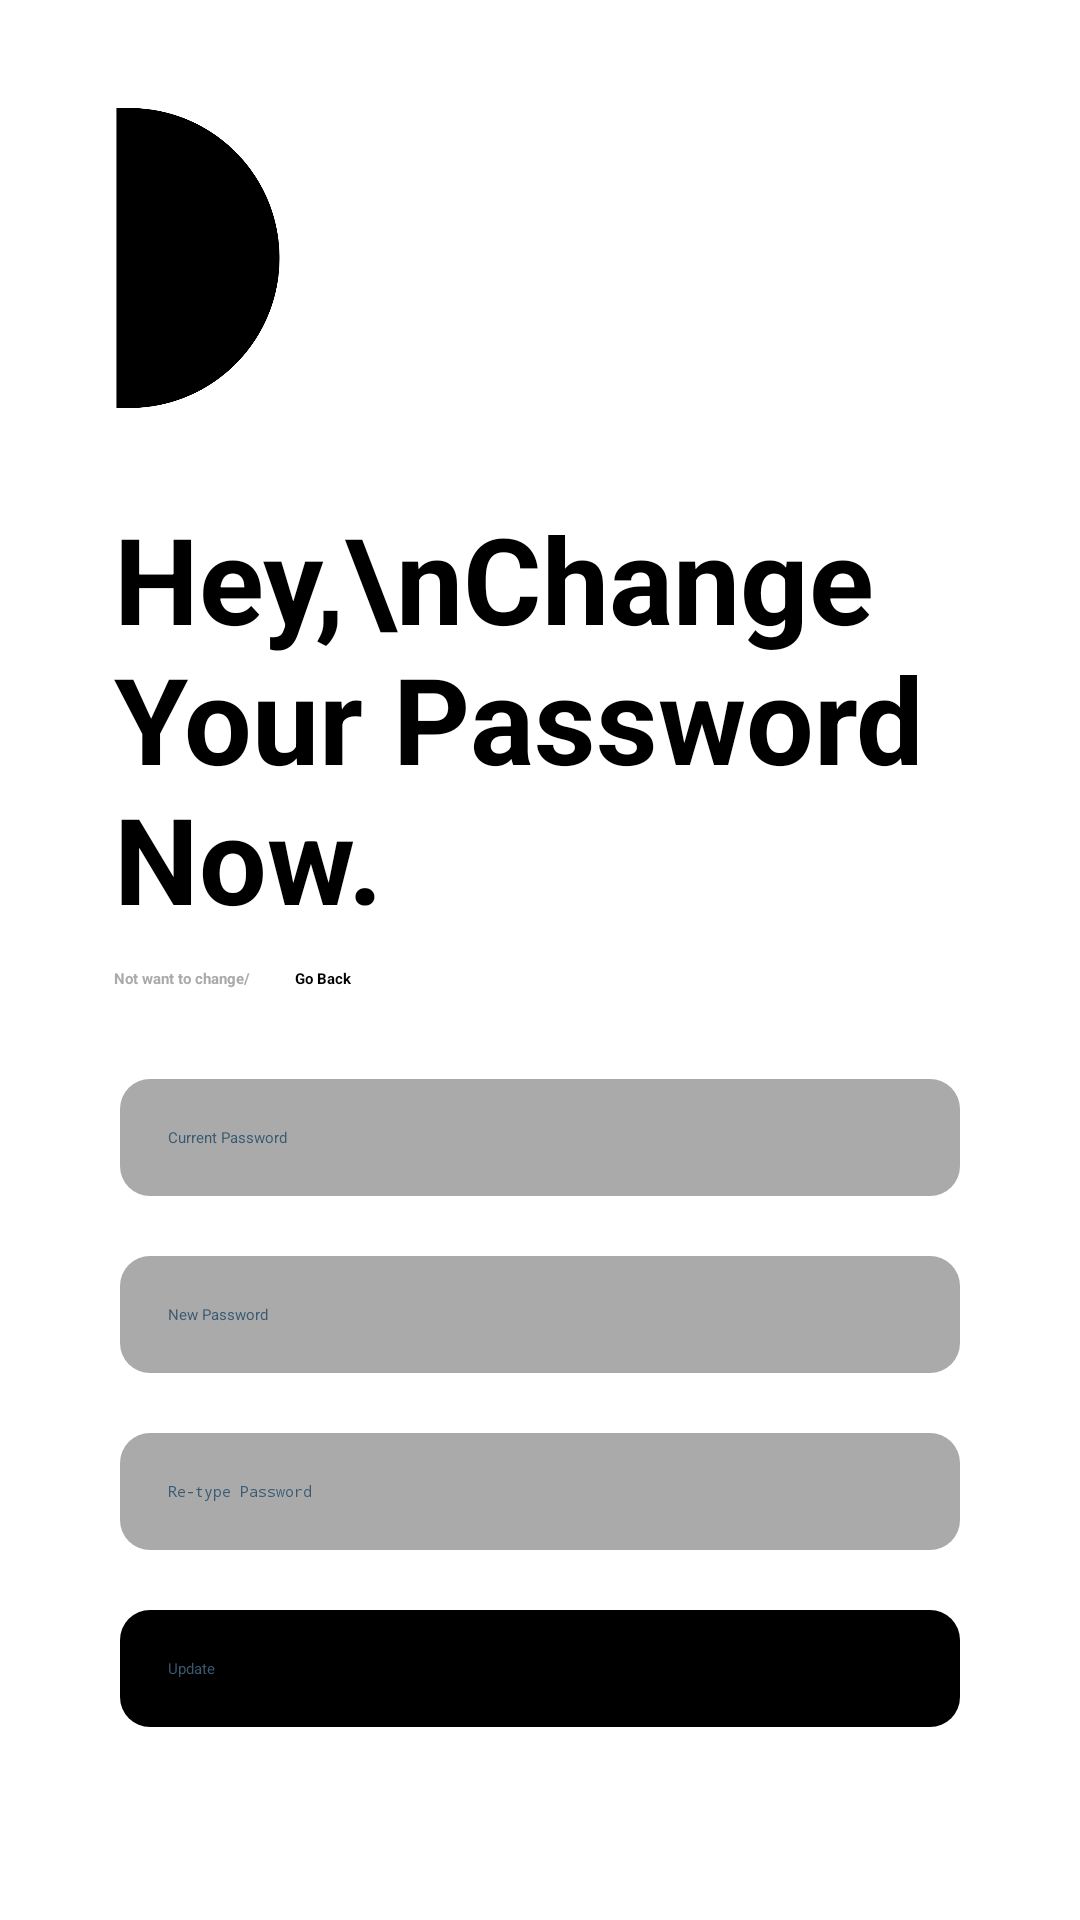

Locate icon controls on the screen. Image size 1080w x 1920h, boxes as (x1, y1, x2, y2).
semi circle: (116, 108, 280, 408)
